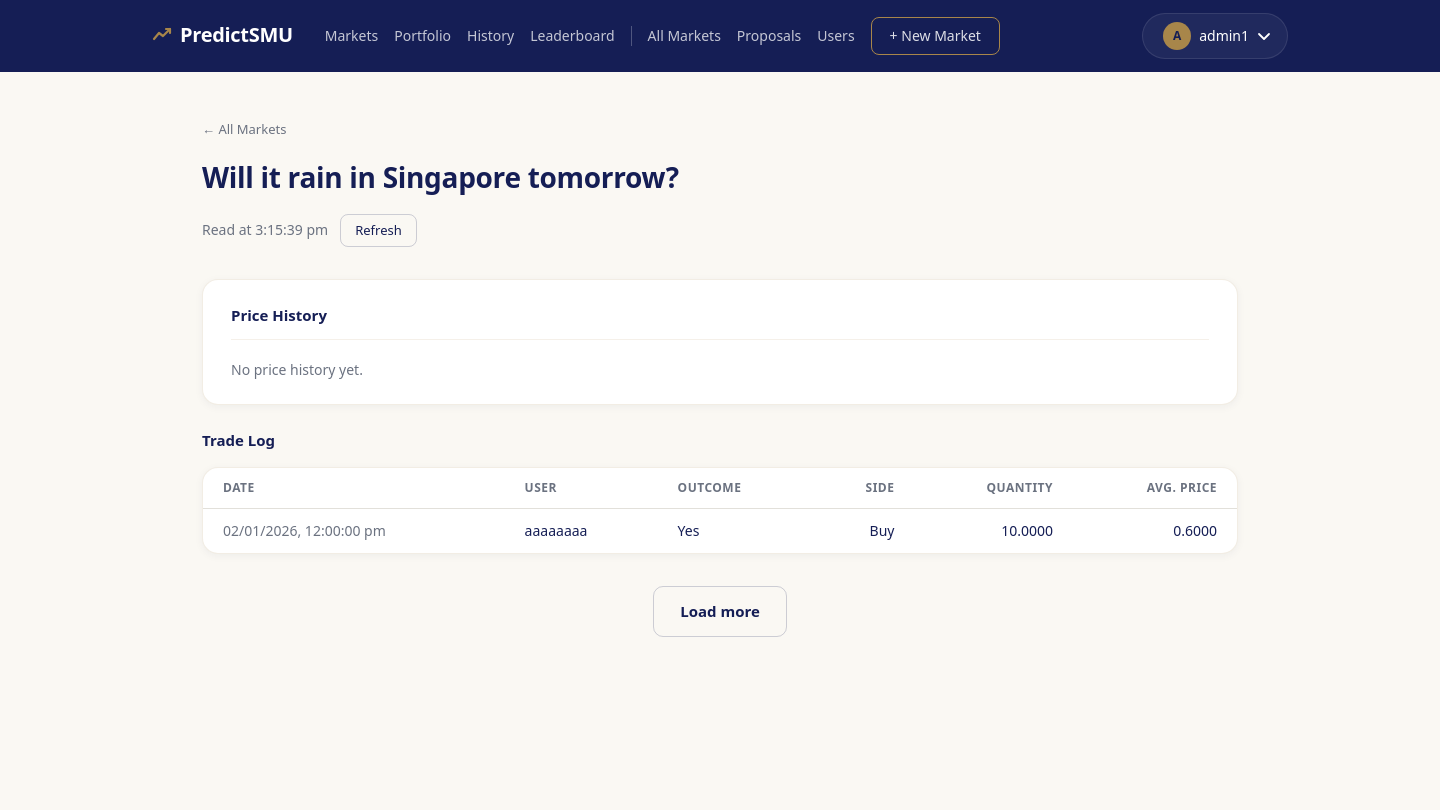
Scenario: MarketPriceHistoryPage › appends the next page of trades when Load more is clicked
expect the link "aaaaaaaa" is shown: met, box [525,521,587,540]
Click the button "Load more" at (720, 611), box [653,586,787,636]
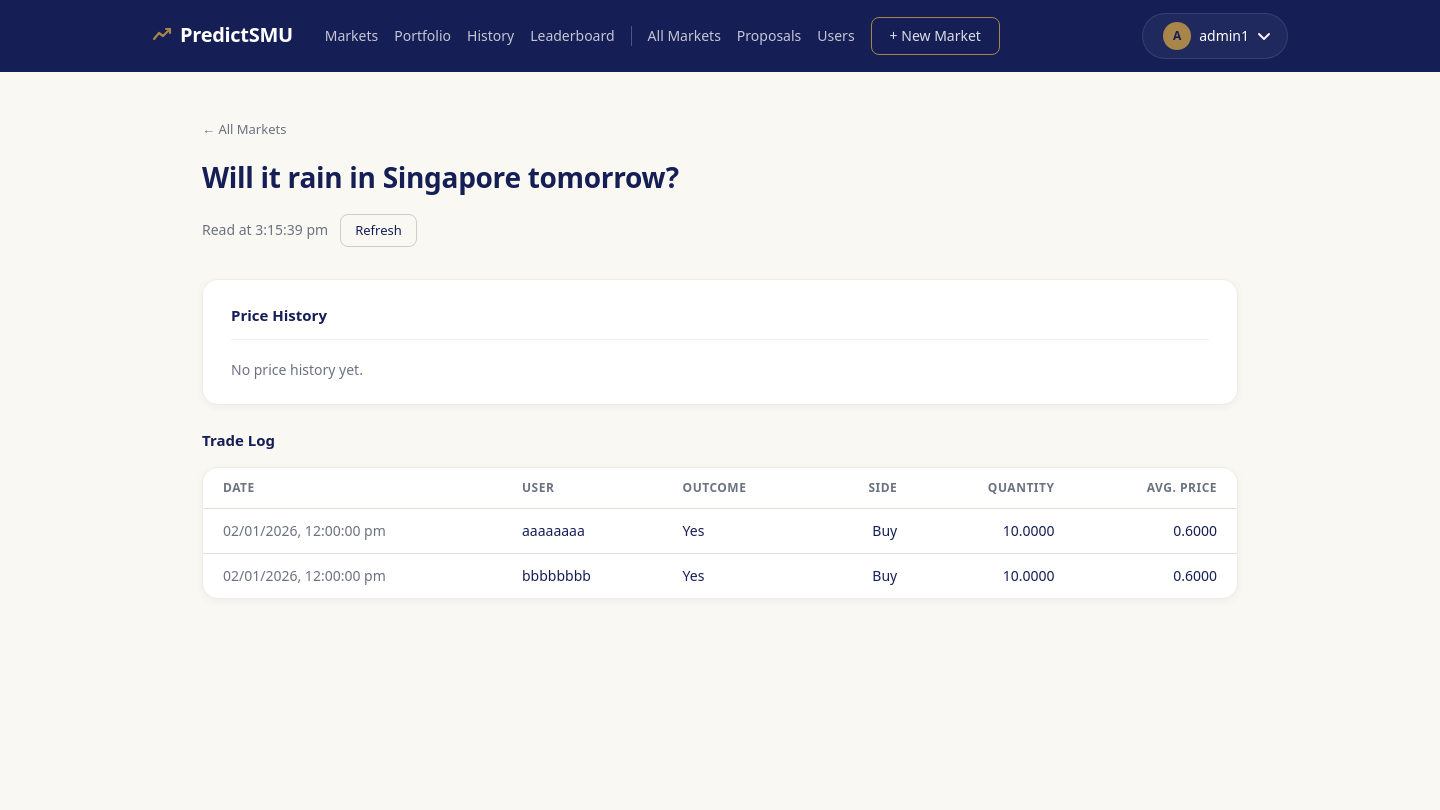
expect the link "bbbbbbbb" is shown: met, box [522,566,591,585]
